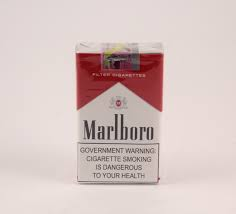marlboro: (78, 52, 158, 182)
